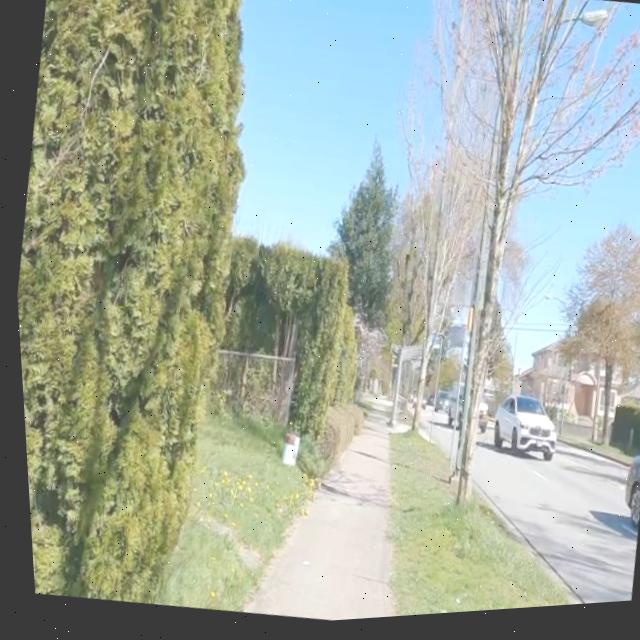Automobile: (489, 403, 550, 467), (618, 460, 640, 535), (438, 394, 454, 431), (471, 409, 483, 440), (441, 408, 449, 431)
Obstacle: (14, 0, 241, 606), (450, 0, 626, 508), (383, 440, 566, 621), (148, 416, 306, 615), (207, 354, 289, 428), (292, 408, 358, 482), (313, 408, 358, 470), (413, 338, 433, 413), (382, 350, 398, 432)
Road: (469, 436, 631, 611), (417, 416, 451, 479)
Sidewalk: (237, 418, 386, 625), (357, 399, 386, 416)
